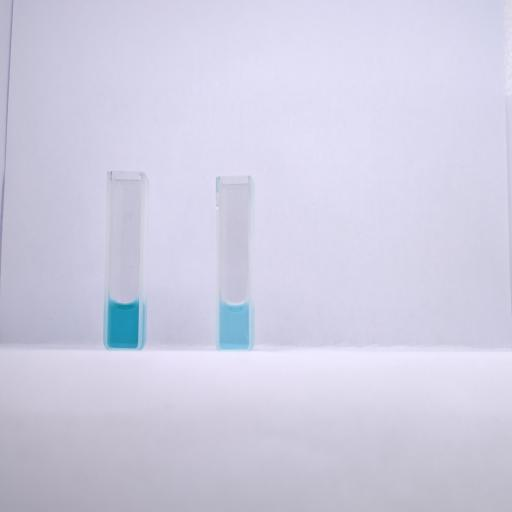cuvette: (102, 168, 146, 352), (214, 174, 254, 354)
liquid: (107, 302, 139, 348), (219, 302, 248, 348)
